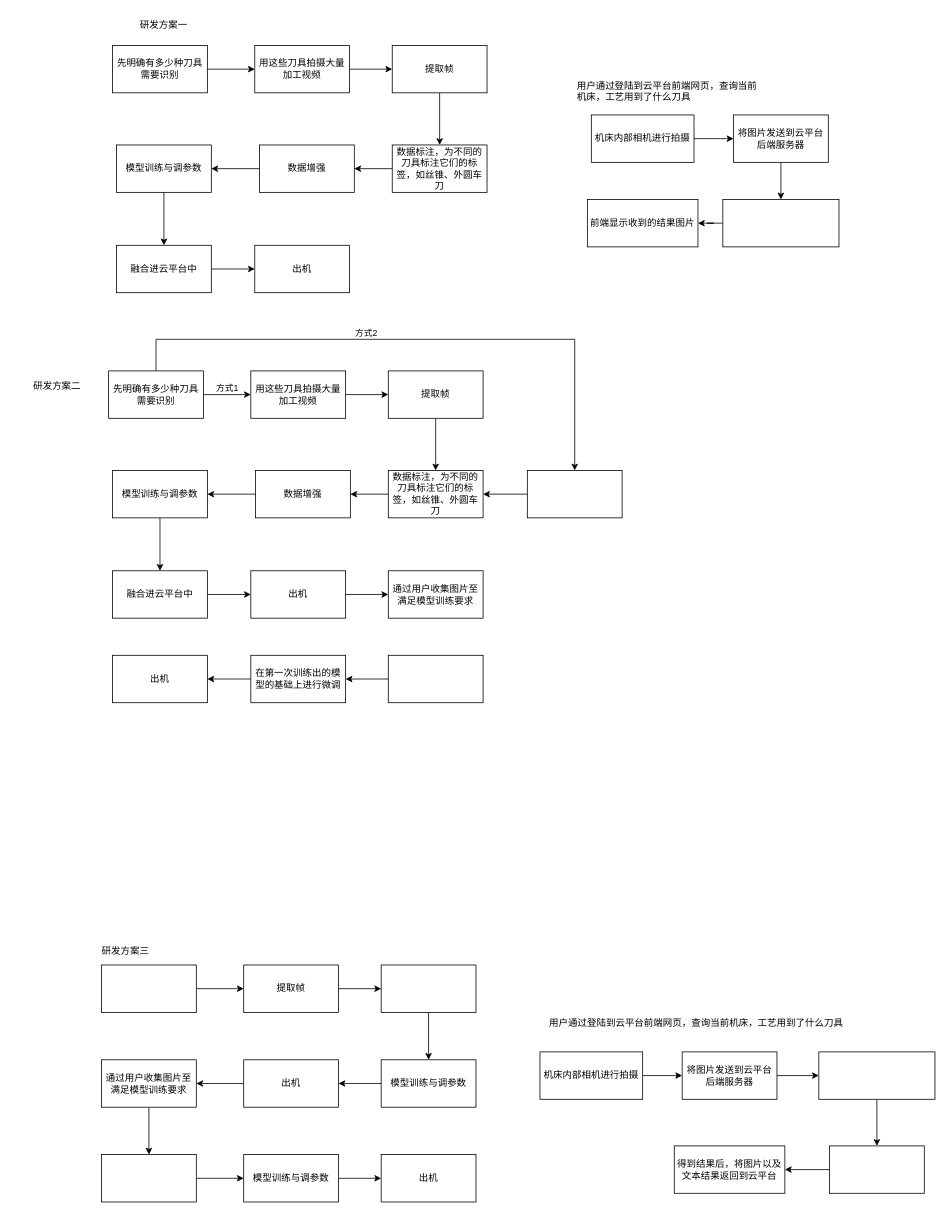
This 949x1216 diagram has some shape labels left out. The box of each missing label's shape, as (x1, y1, x2, y2) in pixels:
再次数据标注: (387, 655, 483, 703)
再次数据标注，为不同的刀具标注它们的标签，如丝锥、外圆车刀: (101, 1154, 196, 1202)
数据标注，统一标注为“刀具”: (380, 964, 476, 1012)
服务器通过http调用训练好的模型，得到结果图片返回至云平台后端: (722, 199, 839, 247)
服务器通过http调用训练好的模型，得到结果图片返回至云平台后端，此时只显示“刀具”而不显示其类型: (818, 1051, 935, 1099)
爬取相应的刀具图片: (527, 470, 622, 518)
用几种刀具拍摄少量加工视频: (101, 964, 196, 1012)
调用多模态大语言模型API，问图片中是什么类型的刀具: (829, 1145, 924, 1193)
